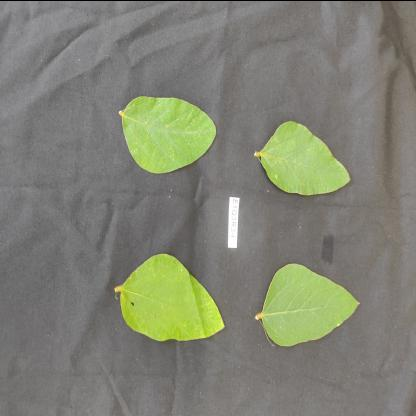label: (218, 192, 242, 246)
leaflets: (100, 254, 228, 350), (258, 256, 367, 362), (105, 90, 231, 178), (250, 120, 359, 212)
